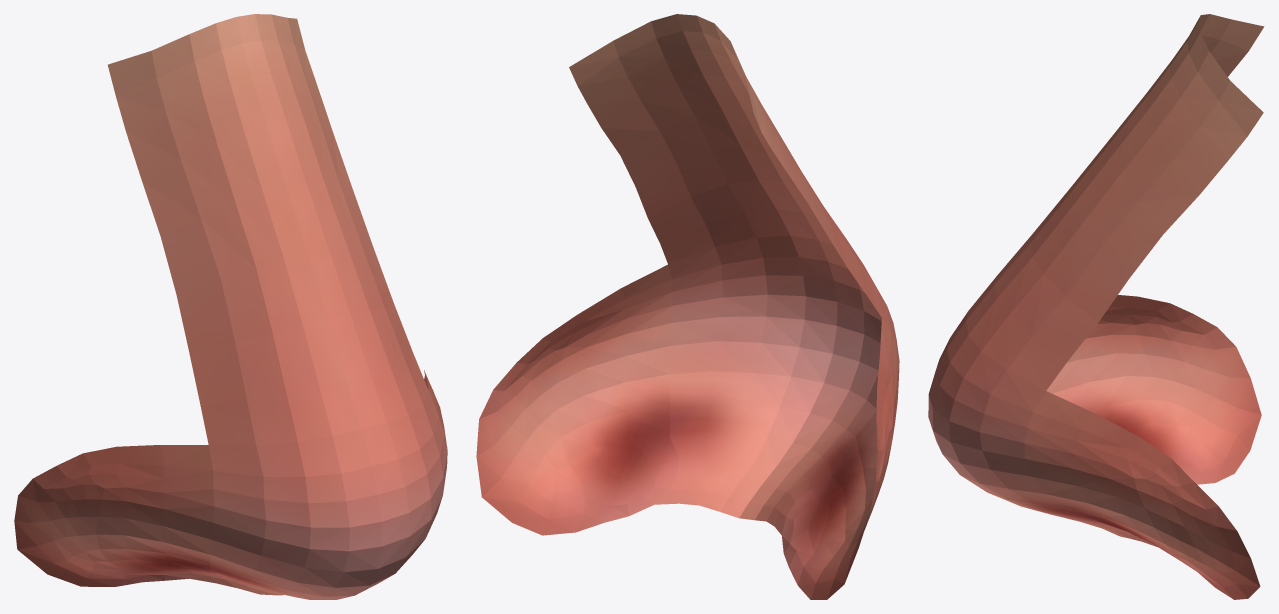
File: euro-fem-nose-up.obj
The picture shows the model from 3 angles, left to right: view 1: azimuth 30°, elevation 25°; view 2: azimuth 150°, elevation 25°; view 3: azimuth 270°, elevation 25°; orthographic projection. The views are drawn at different scales.
Parts seen in each view (by area): view 1: euro-fem-nose-up.001; view 2: euro-fem-nose-up.001; view 3: euro-fem-nose-up.001.
Boxes of the visible parts, x1,y1,x2,y2 form: euro-fem-nose-up.001: [14, 14, 447, 599]; euro-fem-nose-up.001: [476, 14, 899, 599]; euro-fem-nose-up.001: [928, 14, 1264, 599].
Bounding box in the file's own units: 0.1657 × 0.2185 × 0.1292.
Materials: 1 (1 with a texture image).
